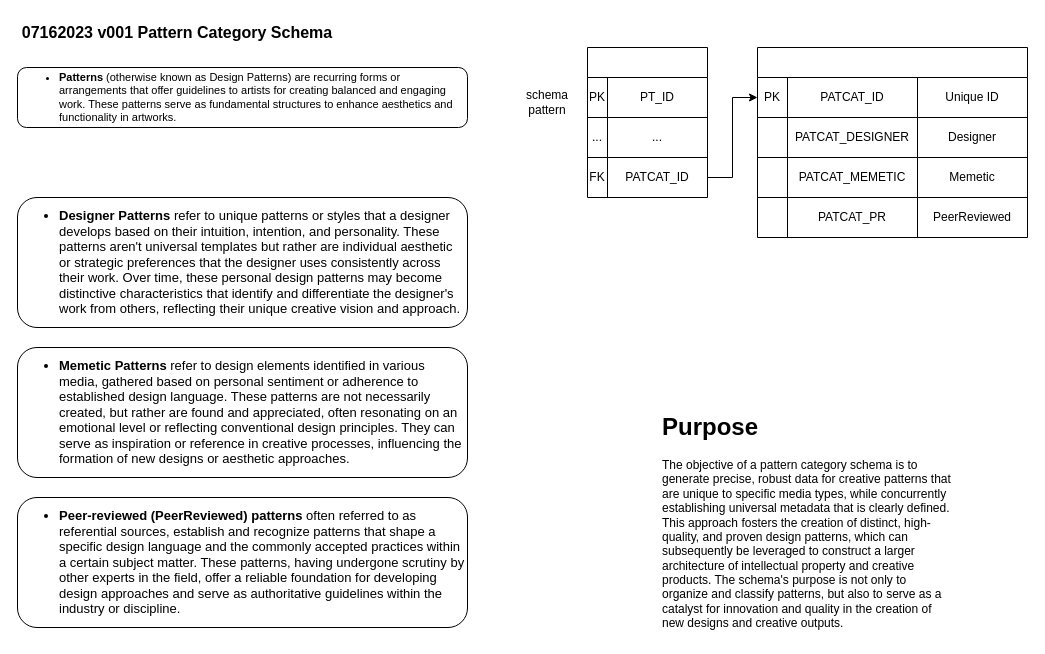
The diagram is 1045 pixels wide and 654 high, and some of its shapes have lost their labels. The box of each missing label's shape, as (x1, y1, x2, y2) in pixels:
Pattern Category: (756, 46, 1028, 238)
Pattern TItle: (586, 46, 708, 198)
